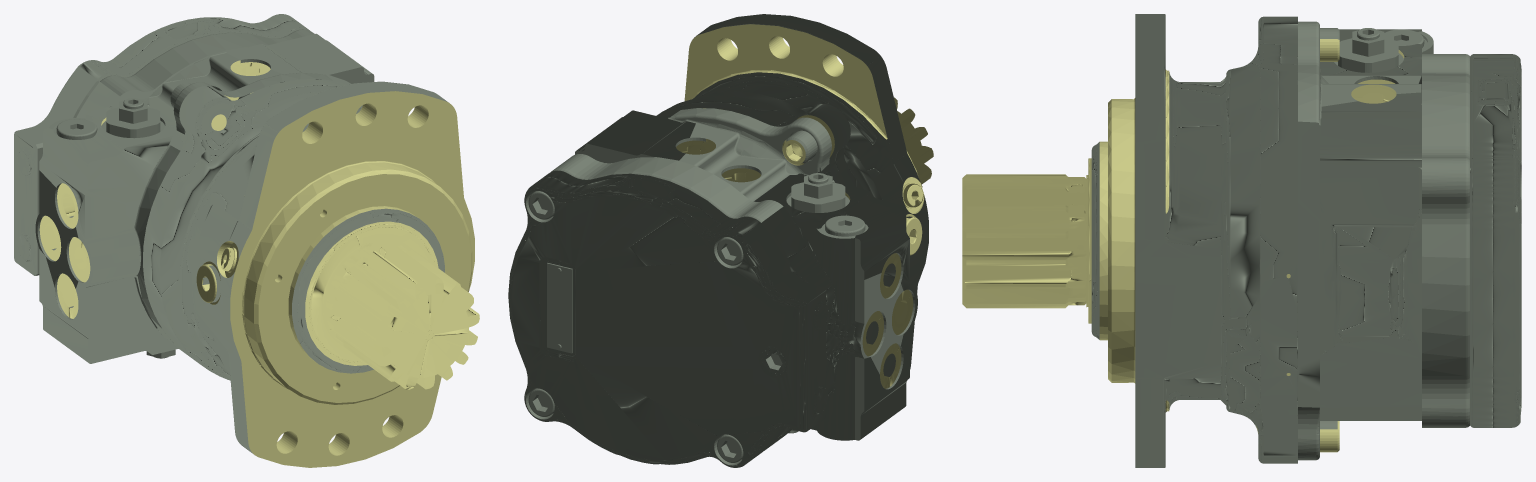
The model's file is swingmotor.glb.
The picture shows the model from 3 angles, left to right: view 1: azimuth 30°, elevation 25°; view 2: azimuth 150°, elevation 25°; view 3: azimuth 270°, elevation 25°; orthographic projection. The views are drawn at different scales.
Bounding box in the file's own units: 0.2209 × 0.2394 × 0.2953.
